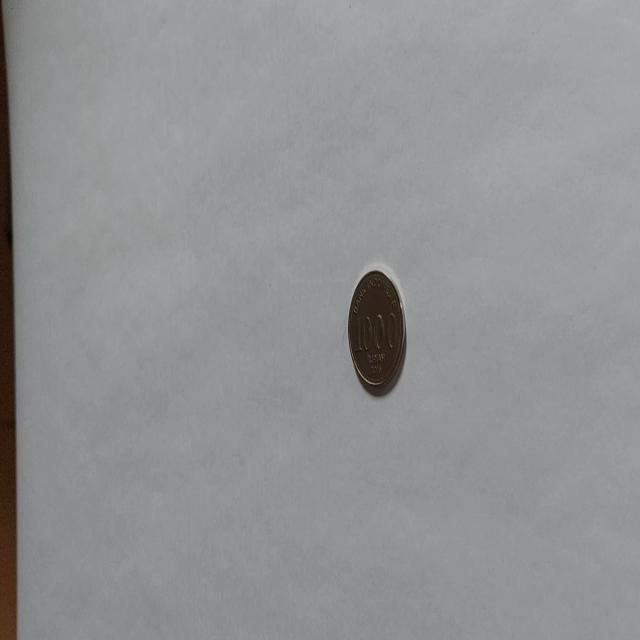seribu rupiah koin: (346, 266, 406, 396)
